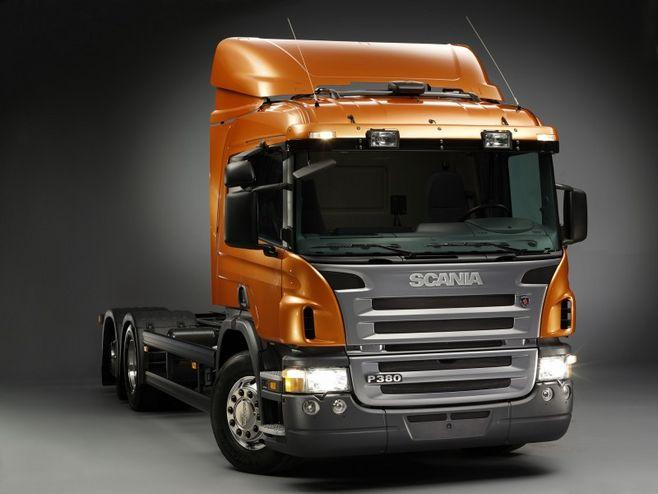卡车: (85, 21, 610, 478)
